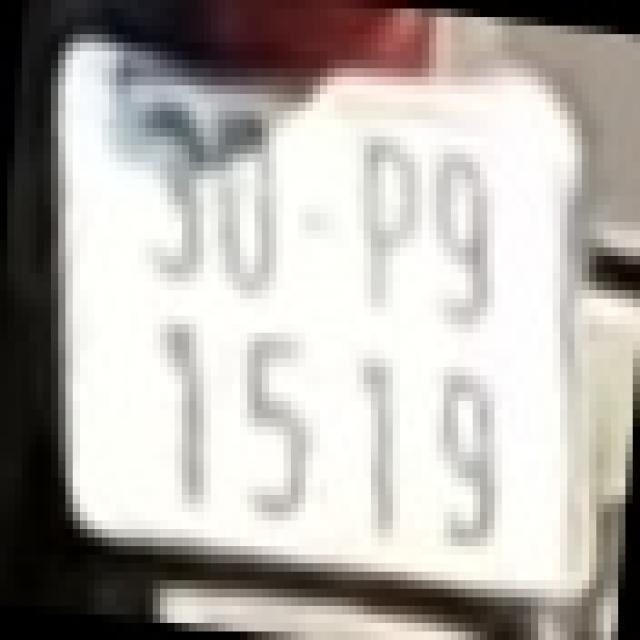0: (218, 111, 284, 290)
1: (146, 316, 218, 512), (349, 350, 400, 538)
3: (124, 102, 212, 282)
5: (240, 324, 313, 521)
9: (430, 145, 494, 333), (436, 367, 502, 546), (356, 137, 422, 316)
P: (356, 137, 422, 316)
